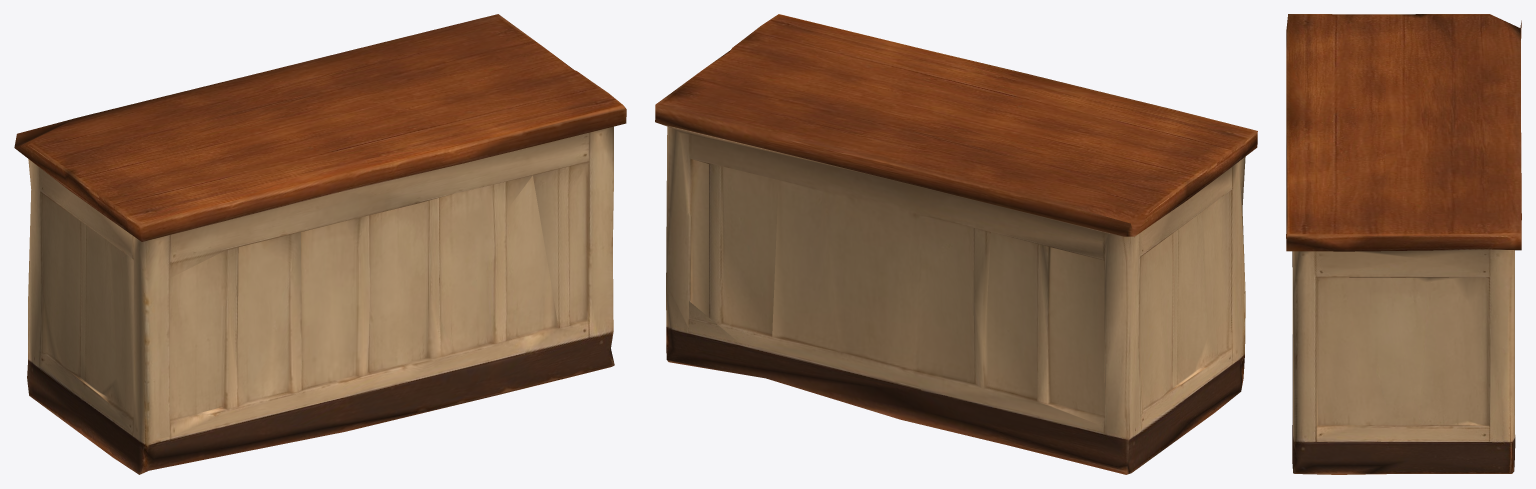
File: shop_counter.glb
The picture shows the model from 3 angles, left to right: view 1: azimuth 30°, elevation 25°; view 2: azimuth 150°, elevation 25°; view 3: azimuth 270°, elevation 25°; orthographic projection. The views are drawn at different scales.
Parts seen in each view (by area): view 1: shop_counter; view 2: shop_counter; view 3: shop_counter.
Part boxes in pixels (box(x1,y1,x2,y2)): shop_counter: box(14, 14, 626, 474); shop_counter: box(655, 14, 1257, 474); shop_counter: box(1286, 14, 1521, 474).
Size of the model in its own units: 2 by 1.03 by 0.9014.
Materials: 1 (1 with a texture image).
